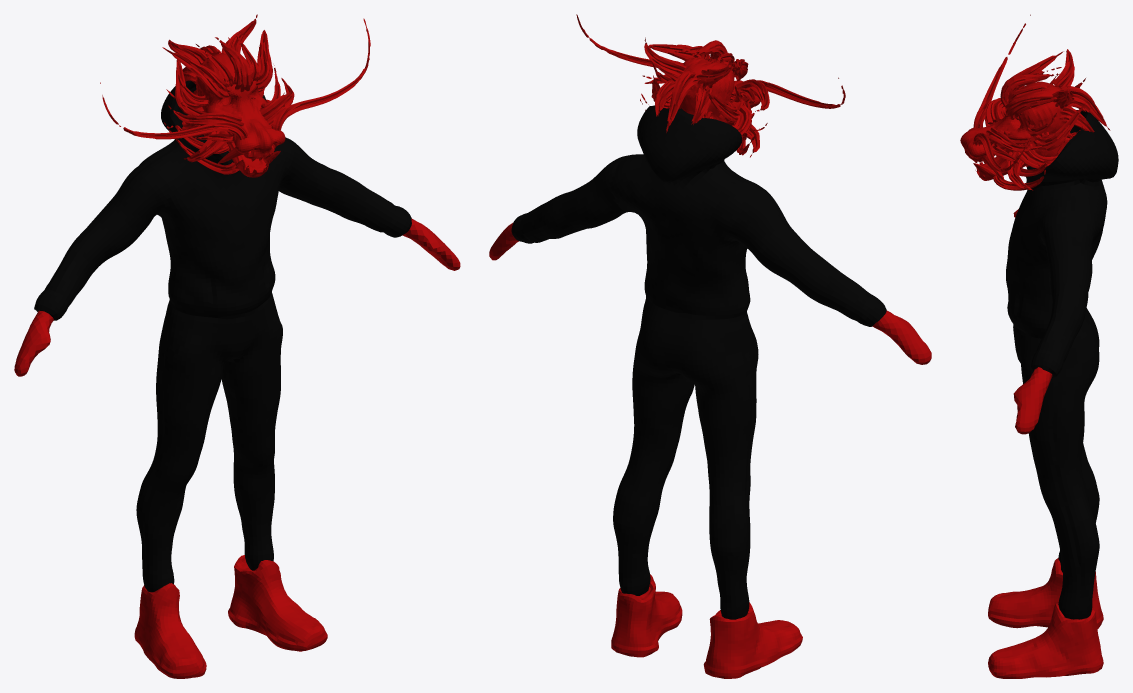
3 views of the same model, side by side, from view 1: azimuth 30°, elevation 25°; view 2: azimuth 150°, elevation 25°; view 3: azimuth 270°, elevation 25° (orthographic). The views are drawn at different scales.
Parts seen in each view (by area): view 1: 5c410873a4c1f20a, дракон, башмак3D1, башмак3D1.001; view 2: 5c410873a4c1f20a, дракон, башмак3D1, башмак3D1.001; view 3: 5c410873a4c1f20a, дракон, башмак3D1, башмак3D1.001.
Part boxes in pixels (left/top/right/bottom): 5c410873a4c1f20a: left=34, top=80, right=411, bottom=592; дракон: left=100, top=14, right=370, bottom=177; башмак3D1: left=134, top=555, right=327, bottom=678; башмак3D1.001: left=14, top=218, right=460, bottom=376; 5c410873a4c1f20a: left=511, top=105, right=886, bottom=619; дракон: left=576, top=14, right=845, bottom=157; башмак3D1: left=611, top=574, right=802, bottom=678; башмак3D1.001: left=489, top=223, right=931, bottom=364; 5c410873a4c1f20a: left=1006, top=110, right=1118, bottom=619; дракон: left=960, top=14, right=1110, bottom=190; башмак3D1: left=988, top=558, right=1103, bottom=678; башмак3D1.001: left=1013, top=209, right=1052, bottom=434.
Size of the model in its own units: 1222 by 1613 by 398.
